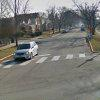Crosswalk: (39, 45, 100, 64)
